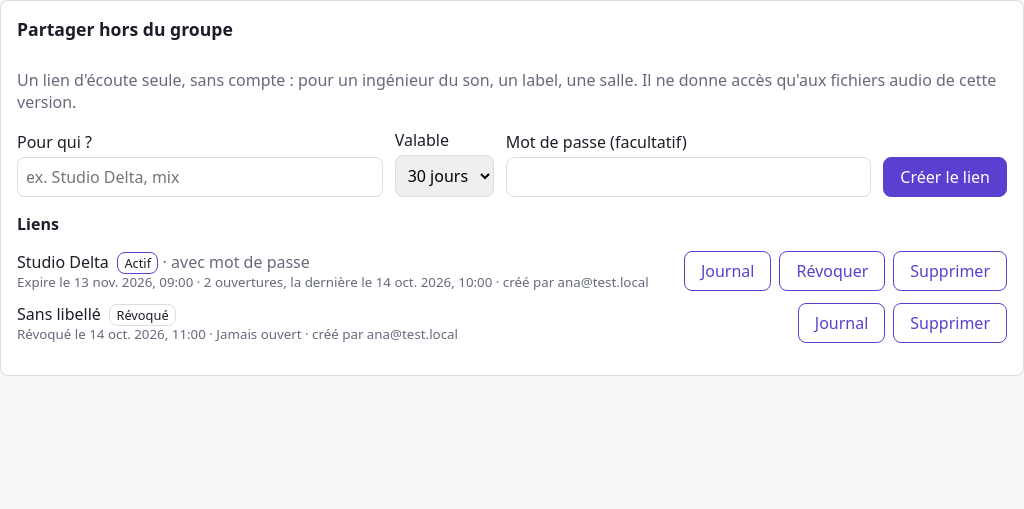
Test: ShareLinksPanel › crée un lien et le montre une seule fois
Type "  Label X  " into the field with id "share-label". click: [200, 177]
box: [17,157,383,197]
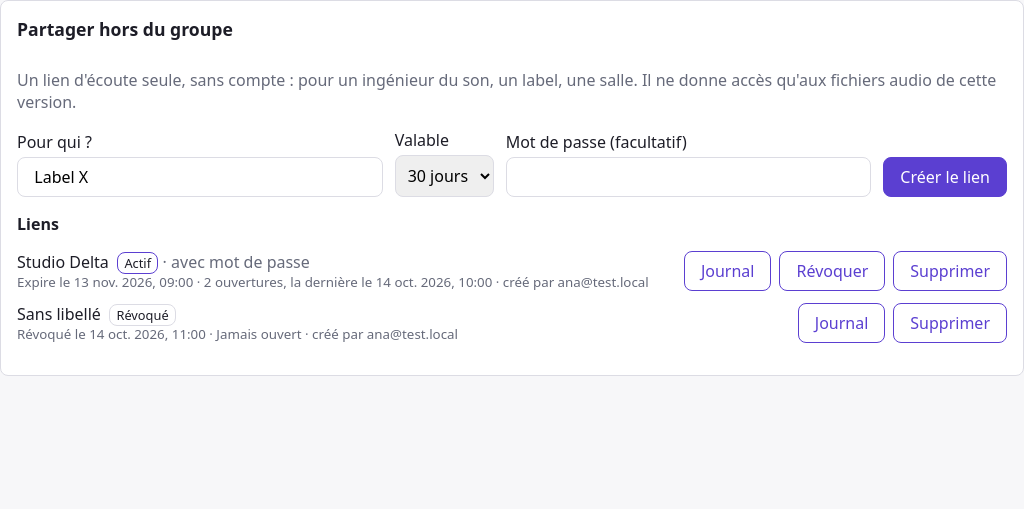
Select "7 jours" in the dropdown with id "share-days". click: [444, 176]
box: [395,155,494,197]
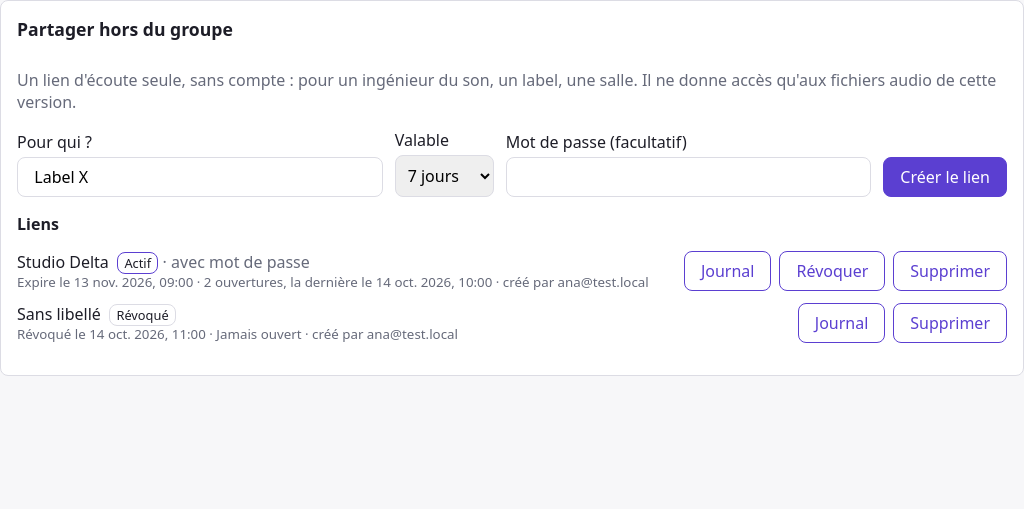
Submit the form, box [17,129,1007,197]
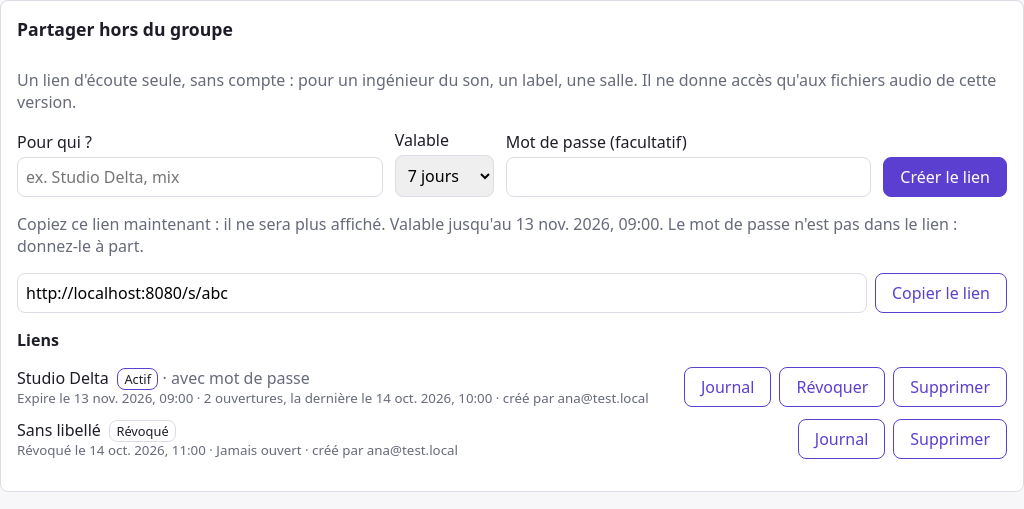
Expected: the field named "Lien de partage" holds "http://localhost:8080/s/abc", [17,273,867,313]
Expected: the text "Le mot de passe n'est pas dans le lien" is shown, [17,213,957,257]
